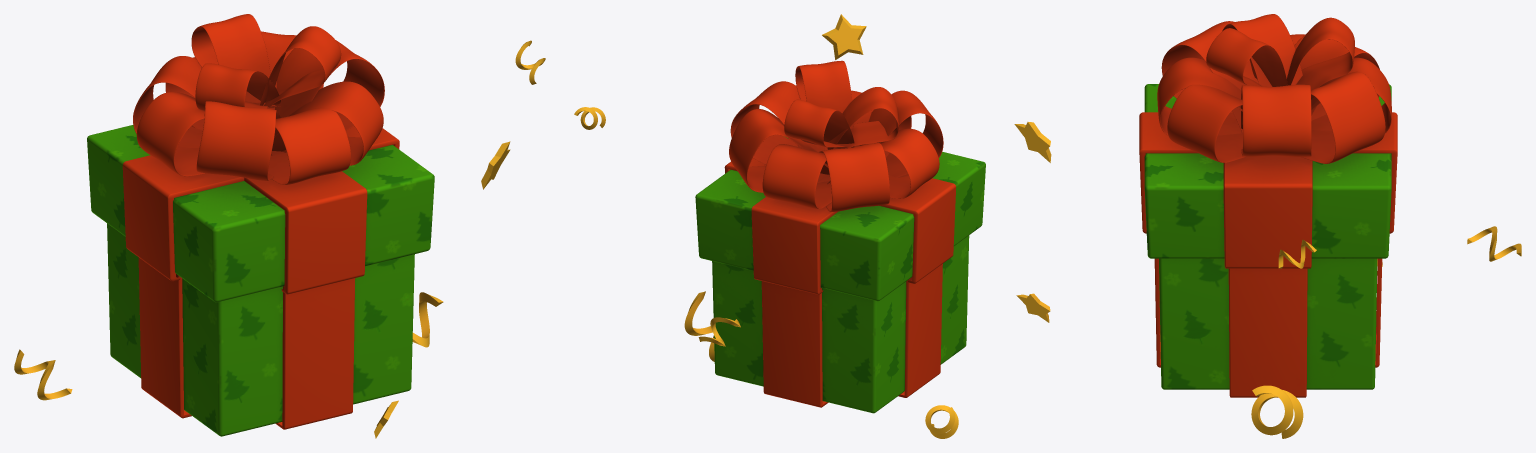
File: gift_box.glb
The picture shows the model from 3 angles, left to right: view 1: azimuth 30°, elevation 25°; view 2: azimuth 150°, elevation 25°; view 3: azimuth 270°, elevation 25°; orthographic projection. The views are drawn at different scales.
Parts seen in each view (by area): view 1: Object_13, Object_8, Object_10, Object_6, Object_2, Object_5, Object_12, Object_3, Object_4, Object_11, Object_14, Object_15 (+1 smaller); view 2: Object_13, Object_11, Object_9, Object_7, Object_6, Object_2, Object_4, Object_3, Object_5, Object_8, Object_14, Object_15; view 3: Object_13, Object_5, Object_7, Object_12, Object_14, Object_4, Object_2, Object_10, Object_3, Object_8, Object_9, Object_11 (+1 smaller).
Part boxes in pixels (bbox=[...]): Object_13: bbox=[87, 125, 434, 436]; Object_8: bbox=[196, 101, 285, 180]; Object_10: bbox=[268, 108, 350, 184]; Object_6: bbox=[136, 92, 272, 176]; Object_2: bbox=[191, 14, 270, 103]; Object_5: bbox=[275, 40, 384, 152]; Object_12: bbox=[274, 81, 383, 165]; Object_3: bbox=[195, 63, 280, 110]; Object_4: bbox=[260, 26, 341, 107]; Object_11: bbox=[133, 56, 202, 147]; Object_14: bbox=[16, 40, 545, 438]; Object_15: bbox=[14, 292, 438, 429]; Object_13: bbox=[695, 136, 985, 413]; Object_11: bbox=[819, 143, 889, 211]; Object_9: bbox=[762, 144, 831, 208]; Object_7: bbox=[729, 109, 830, 192]; Object_6: bbox=[827, 128, 939, 198]; Object_2: bbox=[784, 99, 854, 148]; Object_4: bbox=[795, 60, 854, 129]; Object_3: bbox=[827, 87, 898, 149]; Object_5: bbox=[730, 81, 828, 181]; Object_8: bbox=[859, 90, 943, 177]; Object_14: bbox=[574, 14, 958, 438]; Object_15: bbox=[684, 20, 948, 426]; Object_13: bbox=[1139, 84, 1397, 397]; Object_5: bbox=[1240, 84, 1311, 156]; Object_7: bbox=[1301, 71, 1385, 163]; Object_12: bbox=[1167, 84, 1245, 162]; Object_14: bbox=[1014, 122, 1521, 438]; Object_4: bbox=[1206, 28, 1287, 86]; Object_2: bbox=[1286, 17, 1354, 89]; Object_10: bbox=[1157, 57, 1242, 135]; Object_3: bbox=[1222, 14, 1302, 86]; Object_8: bbox=[1161, 21, 1245, 133]; Object_9: bbox=[1311, 57, 1391, 133]; Object_11: bbox=[1294, 33, 1379, 120].
Bounding box in the file's own units: 488 × 351 × 456.
3 materials, 3 textured.
